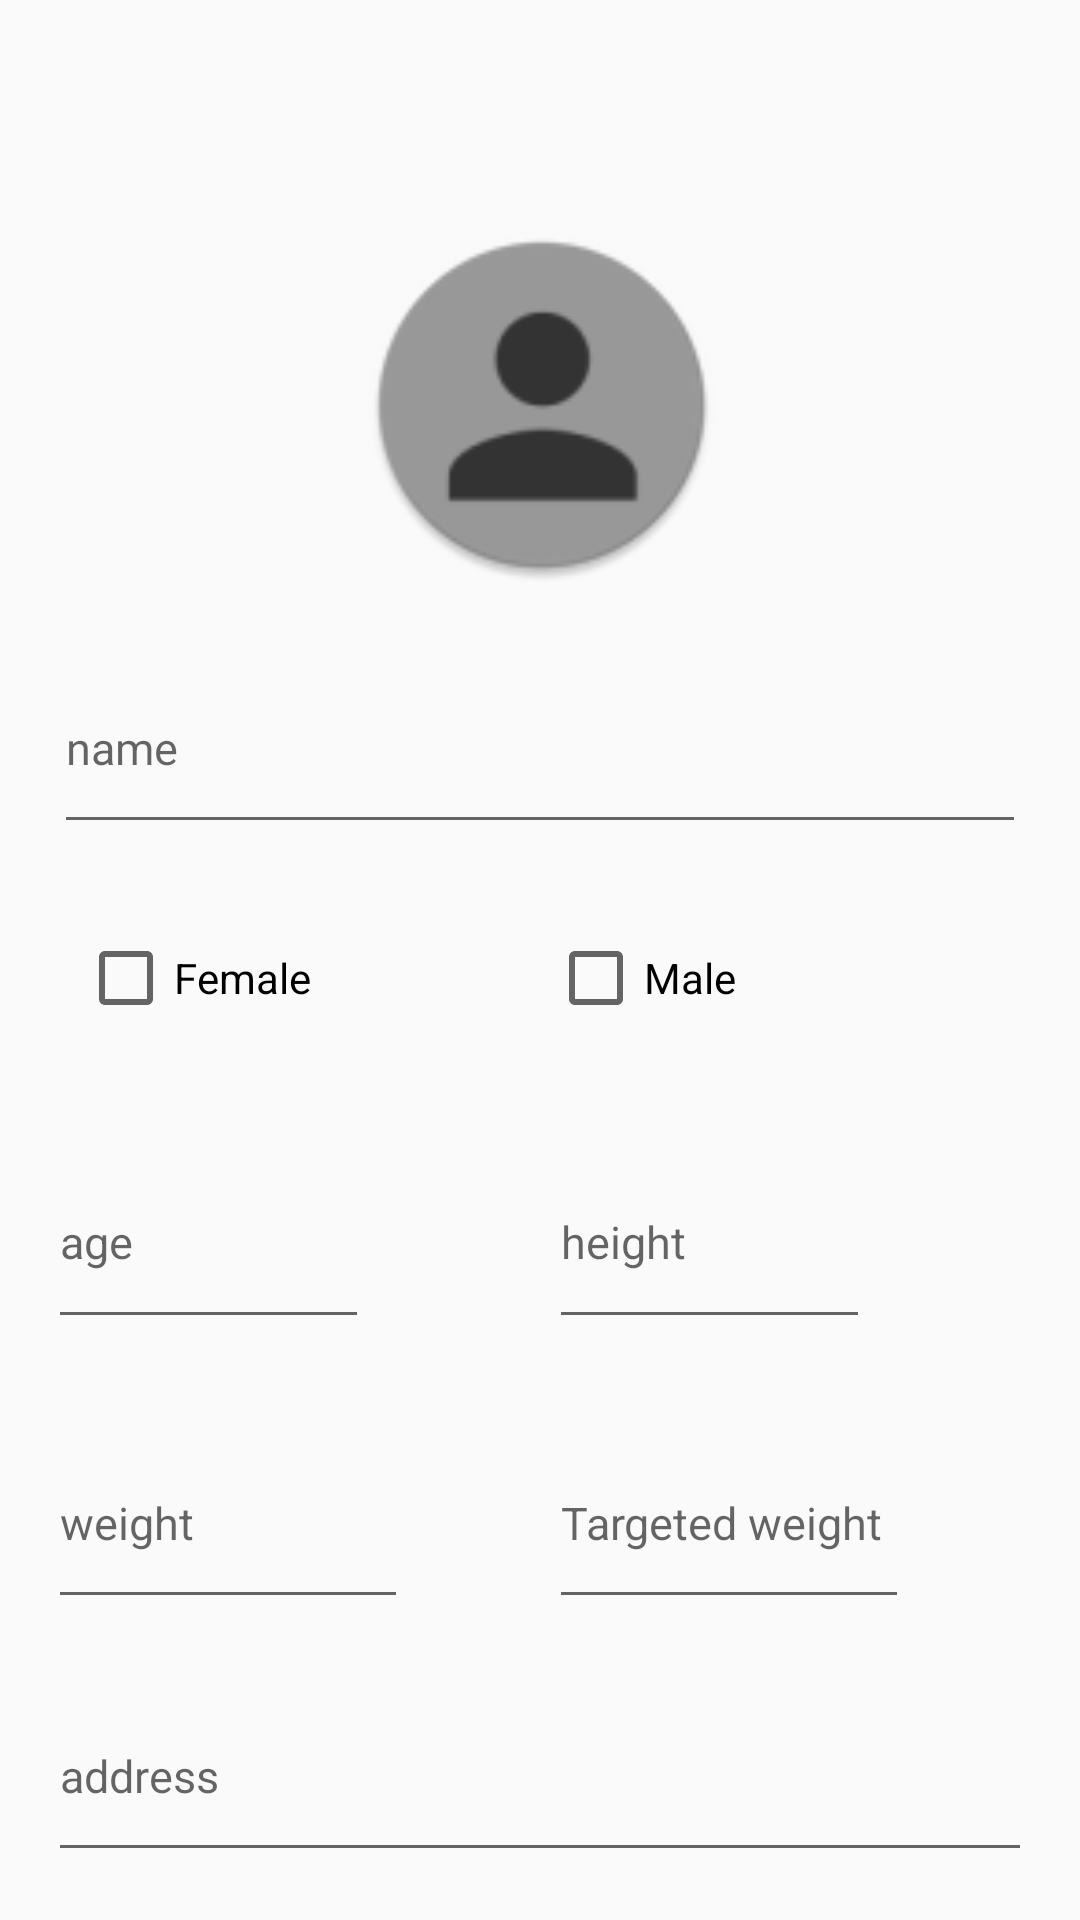

Point at icon controls on the screen. Image size 1080 × 1920, points as (x=x, y=y).
profile round: (x=542, y=408)
